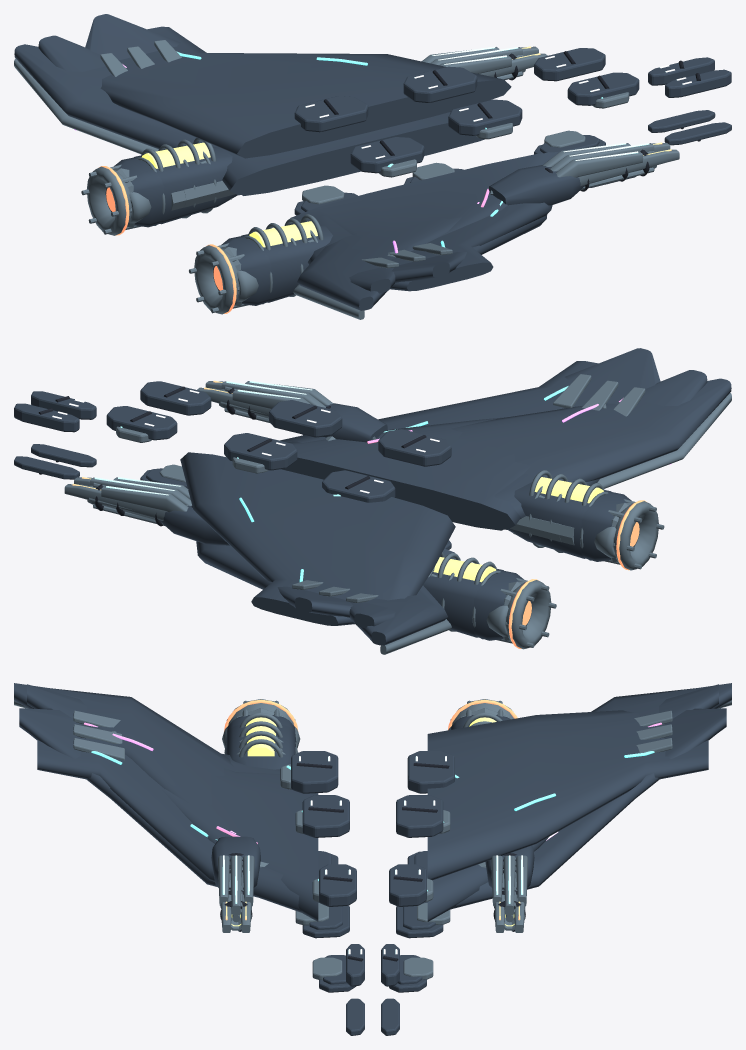
Rendered from vanguard.glb.
3 views of the same model, one above another, from view 1: azimuth 30°, elevation 25°; view 2: azimuth 150°, elevation 25°; view 3: azimuth 270°, elevation 25° (orthographic). The views are drawn at different scales.
Parts seen in each view (by area): view 1: w_vane Fitting gunmetal, w_razor Fitting gunmetal, p_heavy Fitting gunmetal, w_phantom Fitting gunmetal, e_nova Brushed fitting edges, e_twin Fitting gunmetal, w_prism Fitting gunmetal, m_array Brushed fitting edges, e_nova Fitting gunmetal, p_light Brushed fitting edges, m_heavy Fitting gunmetal, w_phantom Brushed fitting edges (+10 smaller); view 2: w_vane Fitting gunmetal, w_phantom Fitting gunmetal, p_heavy Fitting gunmetal, w_razor Fitting gunmetal, w_prism Fitting gunmetal, e_nova Brushed fitting edges, e_twin Fitting gunmetal, m_array Brushed fitting edges, e_nova Fitting gunmetal, m_heavy Fitting gunmetal, w_phantom Brushed fitting edges, w_vane Brushed fitting edges (+10 smaller); view 3: w_vane Fitting gunmetal, p_heavy Fitting gunmetal, w_razor Fitting gunmetal, w_phantom Fitting gunmetal, w_prism Fitting gunmetal, m_array Brushed fitting edges, p_light Brushed fitting edges, w_vane Brushed fitting edges, m_heavy Fitting gunmetal, e_fusion Brushed fitting edges, e_twin Fitting gunmetal, p_aegis Fitting gunmetal (+7 smaller).
Boxes of the visible parts, <box> form: w_vane Fitting gunmetal: <box>100,26,552,291</box>; w_razor Fitting gunmetal: <box>38,35,559,293</box>; p_heavy Fitting gunmetal: <box>294,48,731,215</box>; w_phantom Fitting gunmetal: <box>14,44,484,310</box>; e_nova Brushed fitting edges: <box>81,164,248,314</box>; e_twin Fitting gunmetal: <box>134,146,332,302</box>; w_prism Fitting gunmetal: <box>85,14,547,282</box>; m_array Brushed fitting edges: <box>421,47,654,177</box>; e_nova Fitting gunmetal: <box>105,157,271,305</box>; p_light Brushed fitting edges: <box>302,92,629,204</box>; m_heavy Fitting gunmetal: <box>488,165,584,205</box>; w_phantom Brushed fitting edges: <box>14,58,364,319</box>; w_vane Fitting gunmetal: <box>180,361,626,625</box>; w_phantom Fitting gunmetal: <box>295,378,731,645</box>; p_heavy Fitting gunmetal: <box>14,381,451,549</box>; w_razor Fitting gunmetal: <box>184,370,707,628</box>; w_prism Fitting gunmetal: <box>196,348,660,617</box>; e_nova Brushed fitting edges: <box>497,499,664,649</box>; e_twin Fitting gunmetal: <box>423,482,611,637</box>; m_array Brushed fitting edges: <box>90,381,333,512</box>; e_nova Fitting gunmetal: <box>473,492,639,640</box>; m_heavy Fitting gunmetal: <box>159,403,387,545</box>; w_phantom Brushed fitting edges: <box>380,393,731,654</box>; w_vane Brushed fitting edges: <box>292,374,645,602</box>; w_vane Fitting gunmetal: <box>37,710,708,912</box>; p_heavy Fitting gunmetal: <box>291,751,454,1035</box>; w_razor Fitting gunmetal: <box>27,684,718,921</box>; w_phantom Fitting gunmetal: <box>14,683,731,808</box>; w_prism Fitting gunmetal: <box>19,708,726,909</box>; m_array Brushed fitting edges: <box>218,855,527,915</box>; p_light Brushed fitting edges: <box>280,764,450,979</box>; w_vane Brushed fitting edges: <box>73,710,672,760</box>; m_heavy Fitting gunmetal: <box>211,836,534,887</box>; e_fusion Brushed fitting edges: <box>236,708,509,757</box>; e_twin Fitting gunmetal: <box>225,724,463,769</box>; p_aegis Fitting gunmetal: <box>309,851,435,984</box>.
Bounding box in the file's own units: 55.22 × 10.66 × 57.78.
